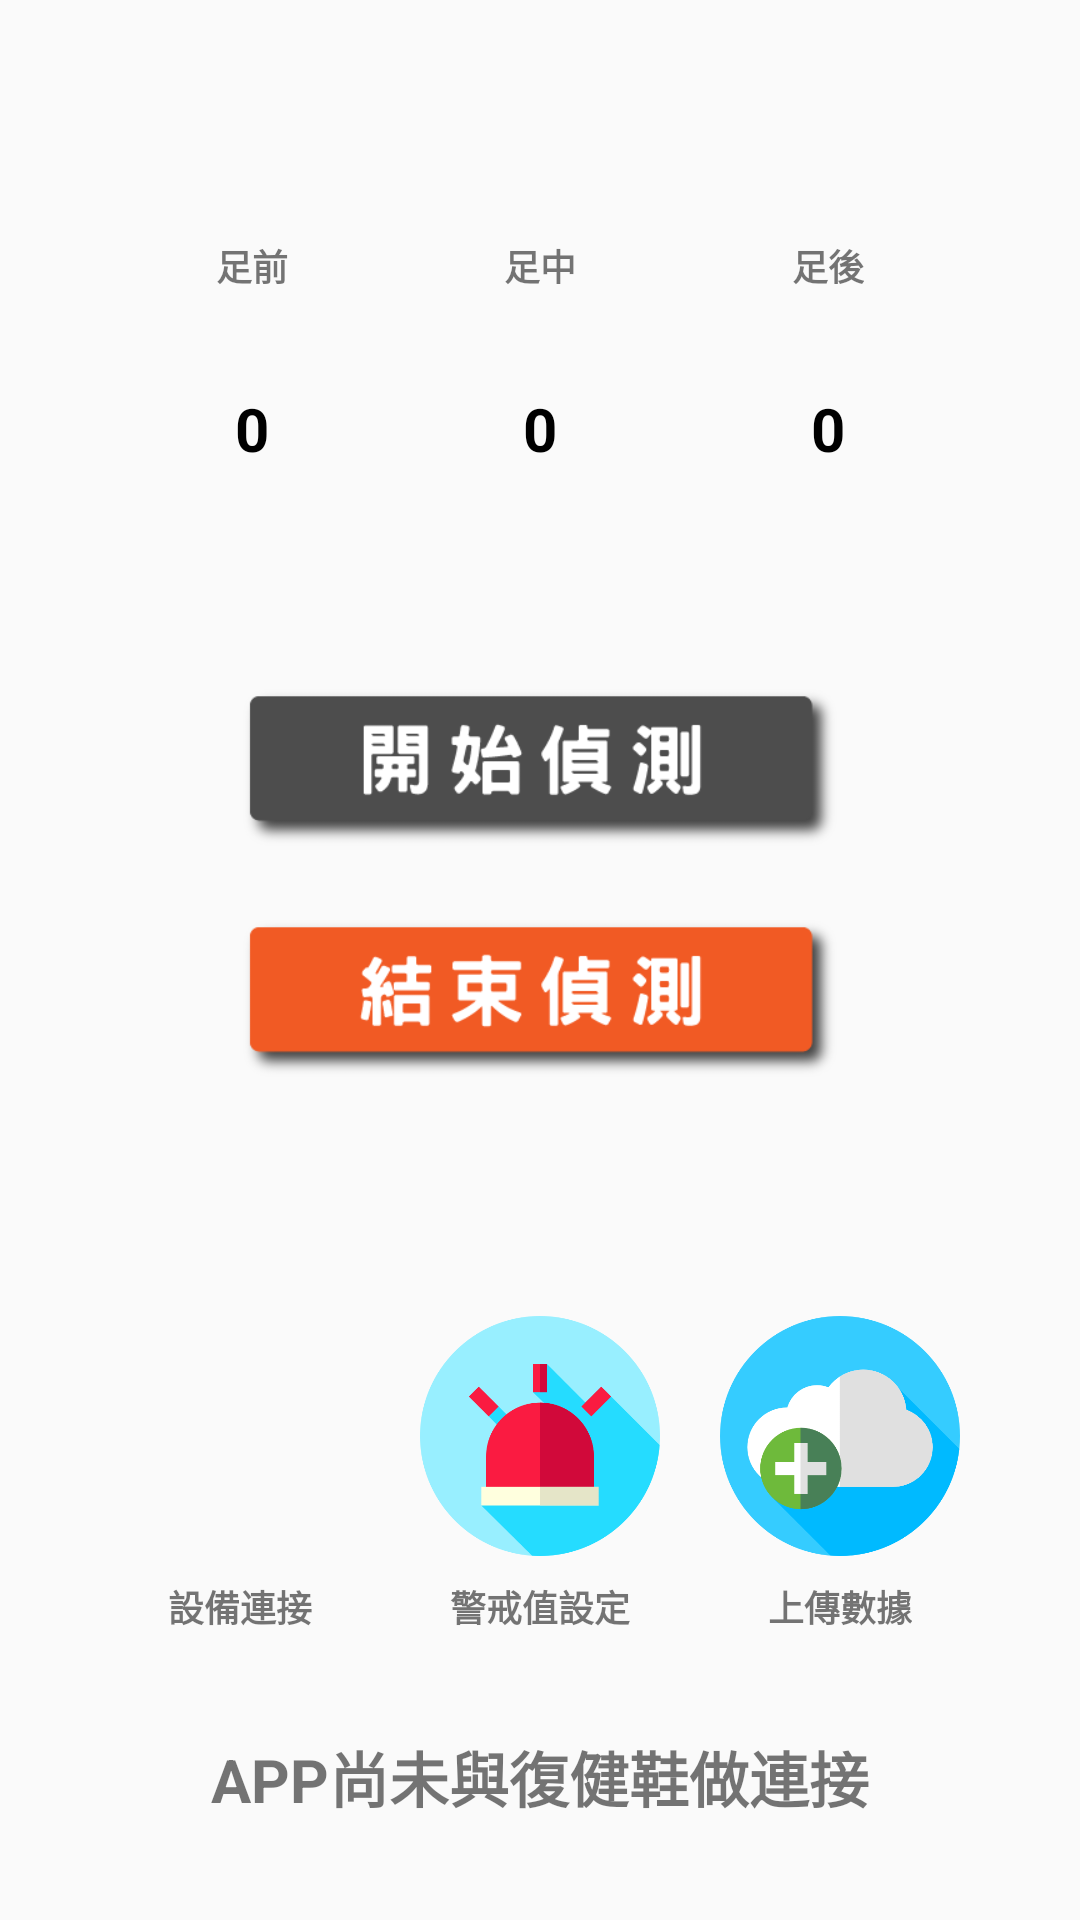

Screen size 1080 × 1920. Icon name, then its box in pixels as region(x1, y1, x2, y2):
alarm: region(420, 1316, 660, 1556)
cloud: region(720, 1316, 960, 1556)
